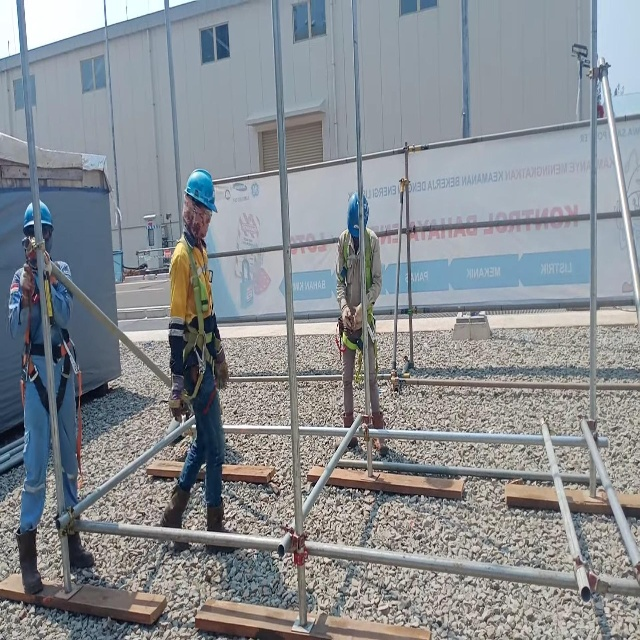Arnes_seguridad: (18, 258, 85, 480), (170, 228, 220, 403), (337, 227, 379, 375)
